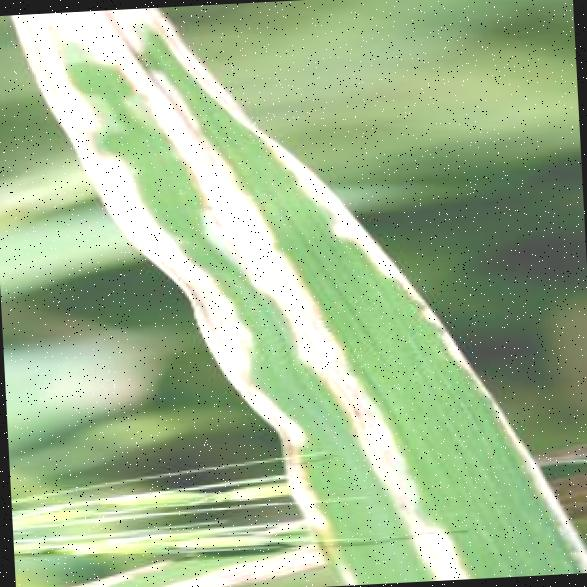Bacteria_Leaf_Blight: (71, 0, 338, 450)
